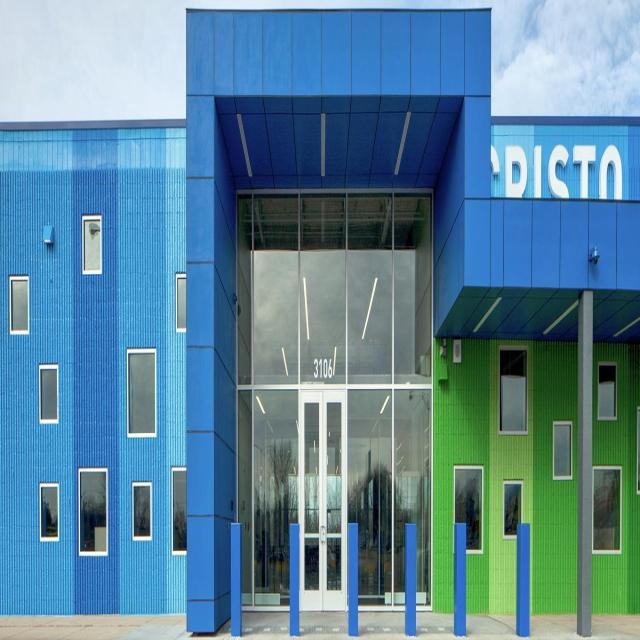door: (298, 381, 348, 611)
window: (237, 193, 430, 607), (498, 352, 528, 441), (453, 474, 483, 554), (126, 359, 157, 434), (593, 472, 622, 552), (79, 475, 106, 550), (170, 474, 187, 556), (131, 486, 153, 546), (81, 224, 103, 283), (39, 489, 60, 547), (552, 429, 572, 488), (9, 283, 29, 341), (598, 367, 616, 427), (503, 487, 521, 544), (40, 370, 56, 425), (176, 279, 186, 331)
